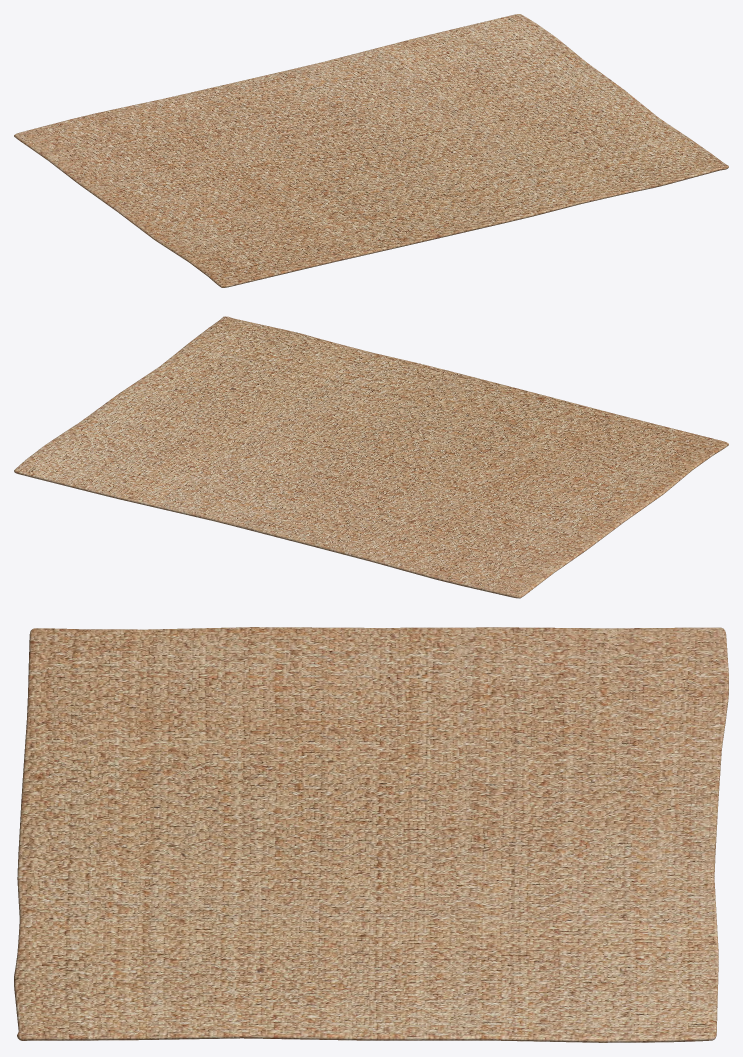
File: B07121ZVX4.glb
3 views of the same model, one above another, from view 1: azimuth 30°, elevation 25°; view 2: azimuth 150°, elevation 25°; view 3: azimuth 270°, elevation 25° (orthographic). The views are drawn at different scales.
Visible parts, largest first — view 1: RootNode; view 2: RootNode; view 3: RootNode.
Boxes of the visible parts, x1,y1,x2,y2 form: RootNode: (14,14,728,287); RootNode: (14,316,728,598); RootNode: (14,627,728,1042).
Size of the model in its own units: 2.14 by 0.0127 by 1.57.
1 material, 1 textured.
